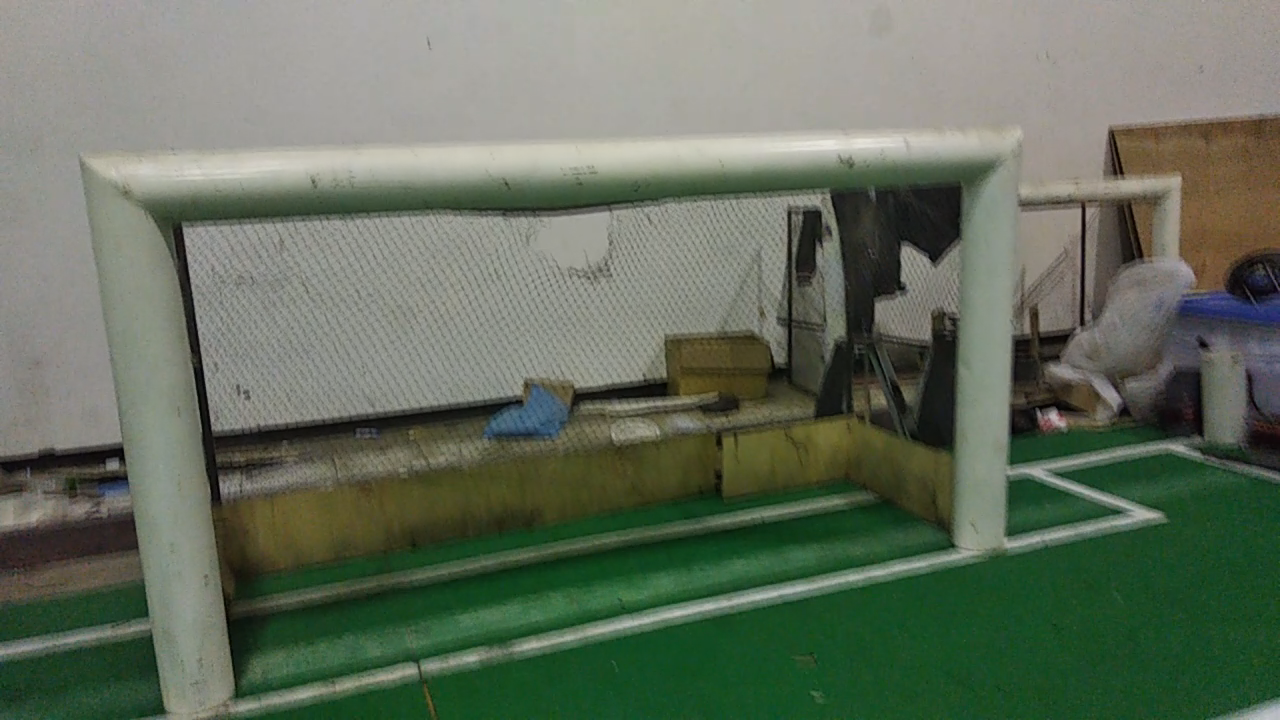gawang: (64, 112, 1025, 716)
